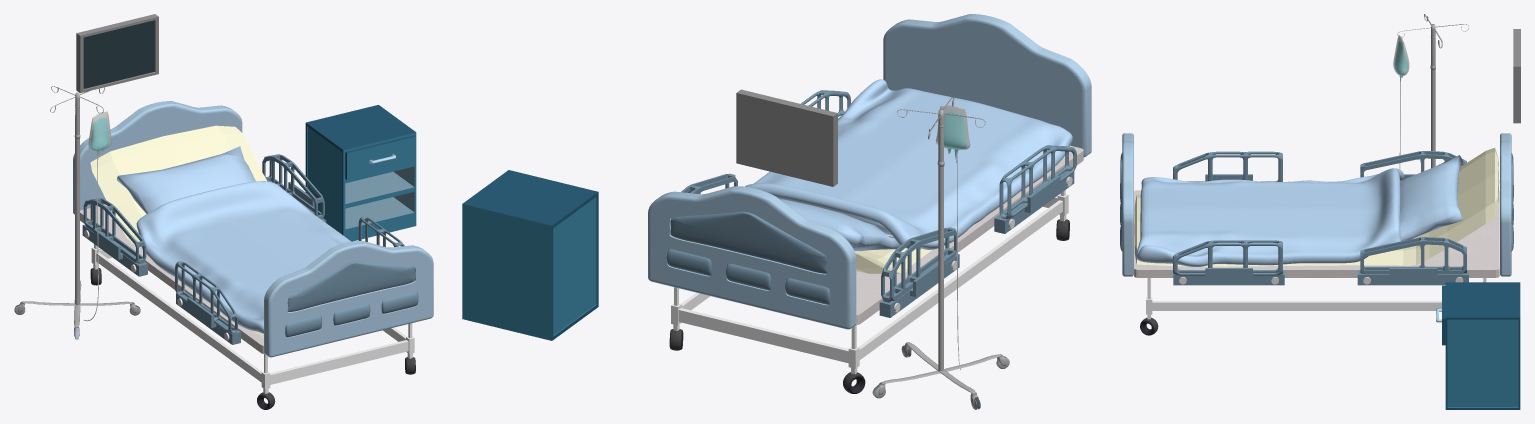
The model's file is bed-unit.glb.
3 views of the same model, side by side, from view 1: azimuth 30°, elevation 25°; view 2: azimuth 150°, elevation 25°; view 3: azimuth 270°, elevation 25° (orthographic). The views are drawn at different scales.
Parts seen in each view (by area): view 1: BedBody, CabinetBody, BedTerminalSurface, IVStandFrameAndBase, BedTerminalHousing, InfusionBottle, InfusionLiquid; view 2: BedBody, CabinetBody, BedTerminalHousing, IVStandFrameAndBase, InfusionBottle, InfusionLiquid; view 3: BedBody, CabinetBody, IVStandFrameAndBase, BedTerminalHousing, InfusionBottle.
Boxes of the visible parts, x1,y1,x2,y2 form: BedBody: [73, 101, 433, 409]; CabinetBody: [305, 105, 416, 241]; BedTerminalSurface: [83, 20, 154, 88]; IVStandFrameAndBase: [14, 86, 140, 339]; BedTerminalHousing: [76, 14, 158, 93]; InfusionBottle: [88, 111, 111, 159]; InfusionLiquid: [90, 117, 109, 156]; BedBody: [648, 14, 1091, 393]; CabinetBody: [462, 170, 598, 340]; BedTerminalHousing: [736, 89, 837, 186]; IVStandFrameAndBase: [872, 97, 1009, 409]; InfusionBottle: [935, 105, 970, 162]; InfusionLiquid: [944, 112, 966, 158]; BedBody: [1120, 133, 1513, 335]; CabinetBody: [1442, 282, 1520, 409]; IVStandFrameAndBase: [1397, 14, 1468, 168]; BedTerminalHousing: [1513, 29, 1520, 123]; InfusionBottle: [1393, 35, 1409, 81].
Size of the model in its own units: 1.89 by 1.1 by 1.69.
Materials: 20 (2 with a texture image).
